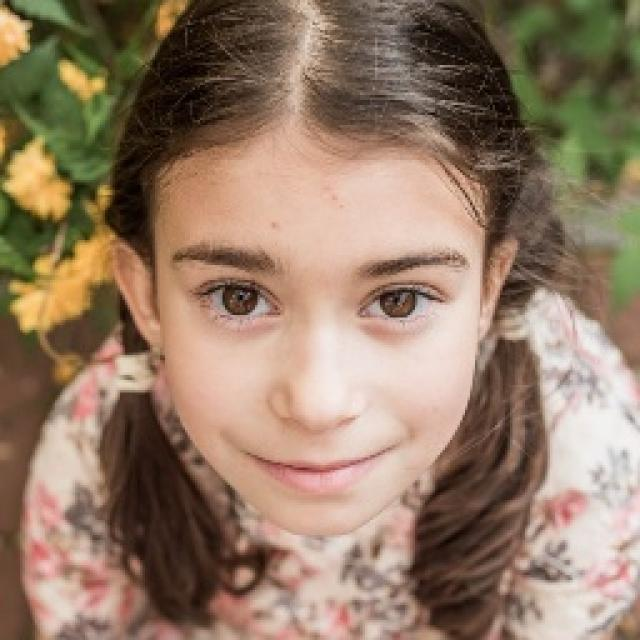earlobe: (106, 237, 164, 353), (477, 234, 520, 337)
